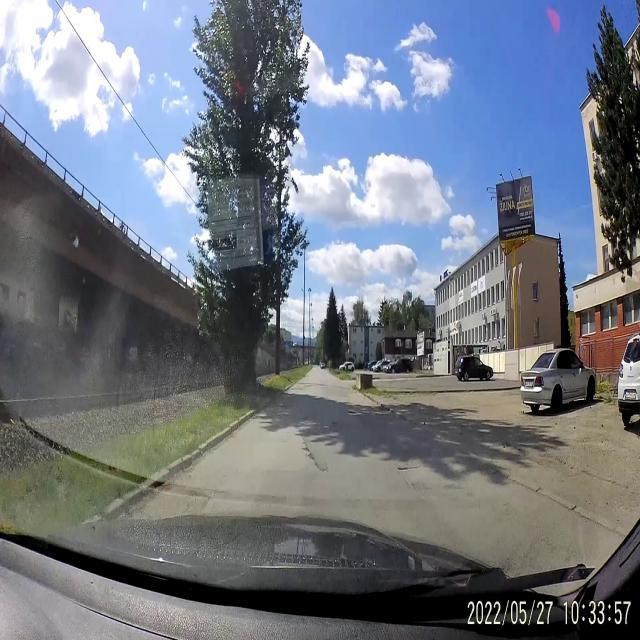Pothole: (302, 446, 320, 470), (392, 461, 411, 476)
